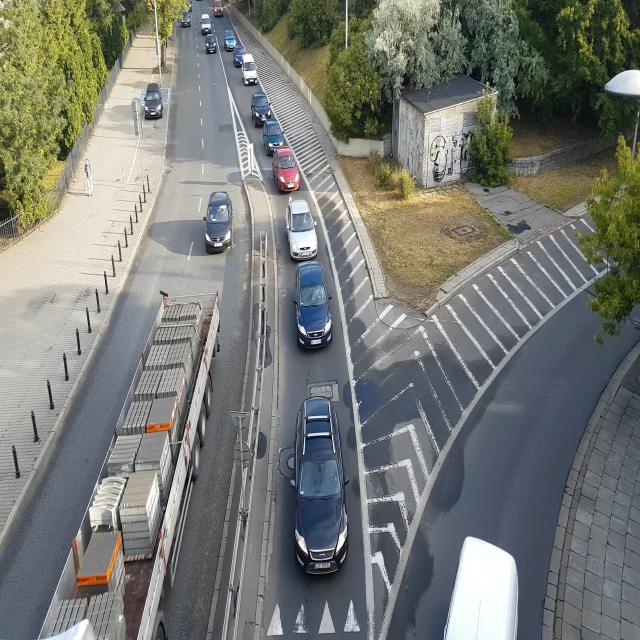car: (288, 398, 355, 571), (440, 514, 521, 640), (295, 264, 335, 350), (286, 198, 319, 261), (205, 191, 234, 253), (273, 144, 303, 192), (142, 85, 165, 121), (264, 121, 286, 152), (252, 92, 273, 122), (240, 62, 258, 84), (180, 11, 194, 33), (225, 32, 238, 52), (200, 14, 212, 34), (203, 36, 215, 55), (214, 2, 226, 17), (234, 51, 244, 68)
truck: (52, 288, 224, 640)
